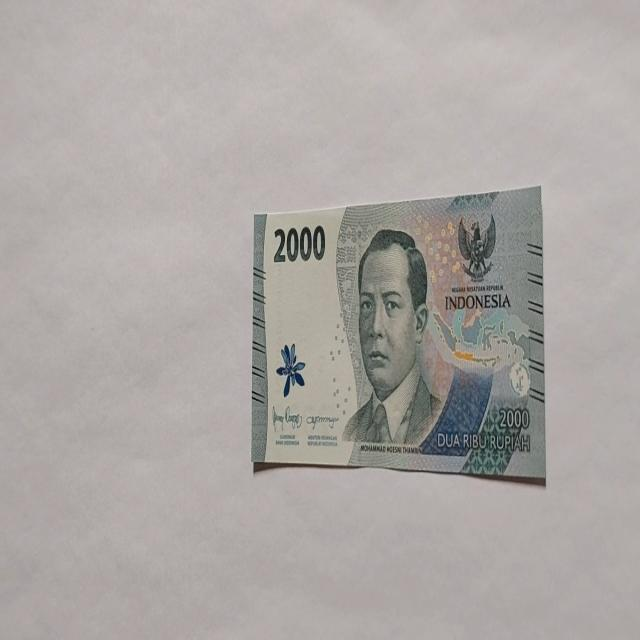dua ribu rupiah: (251, 185, 545, 480), (341, 228, 444, 450)
